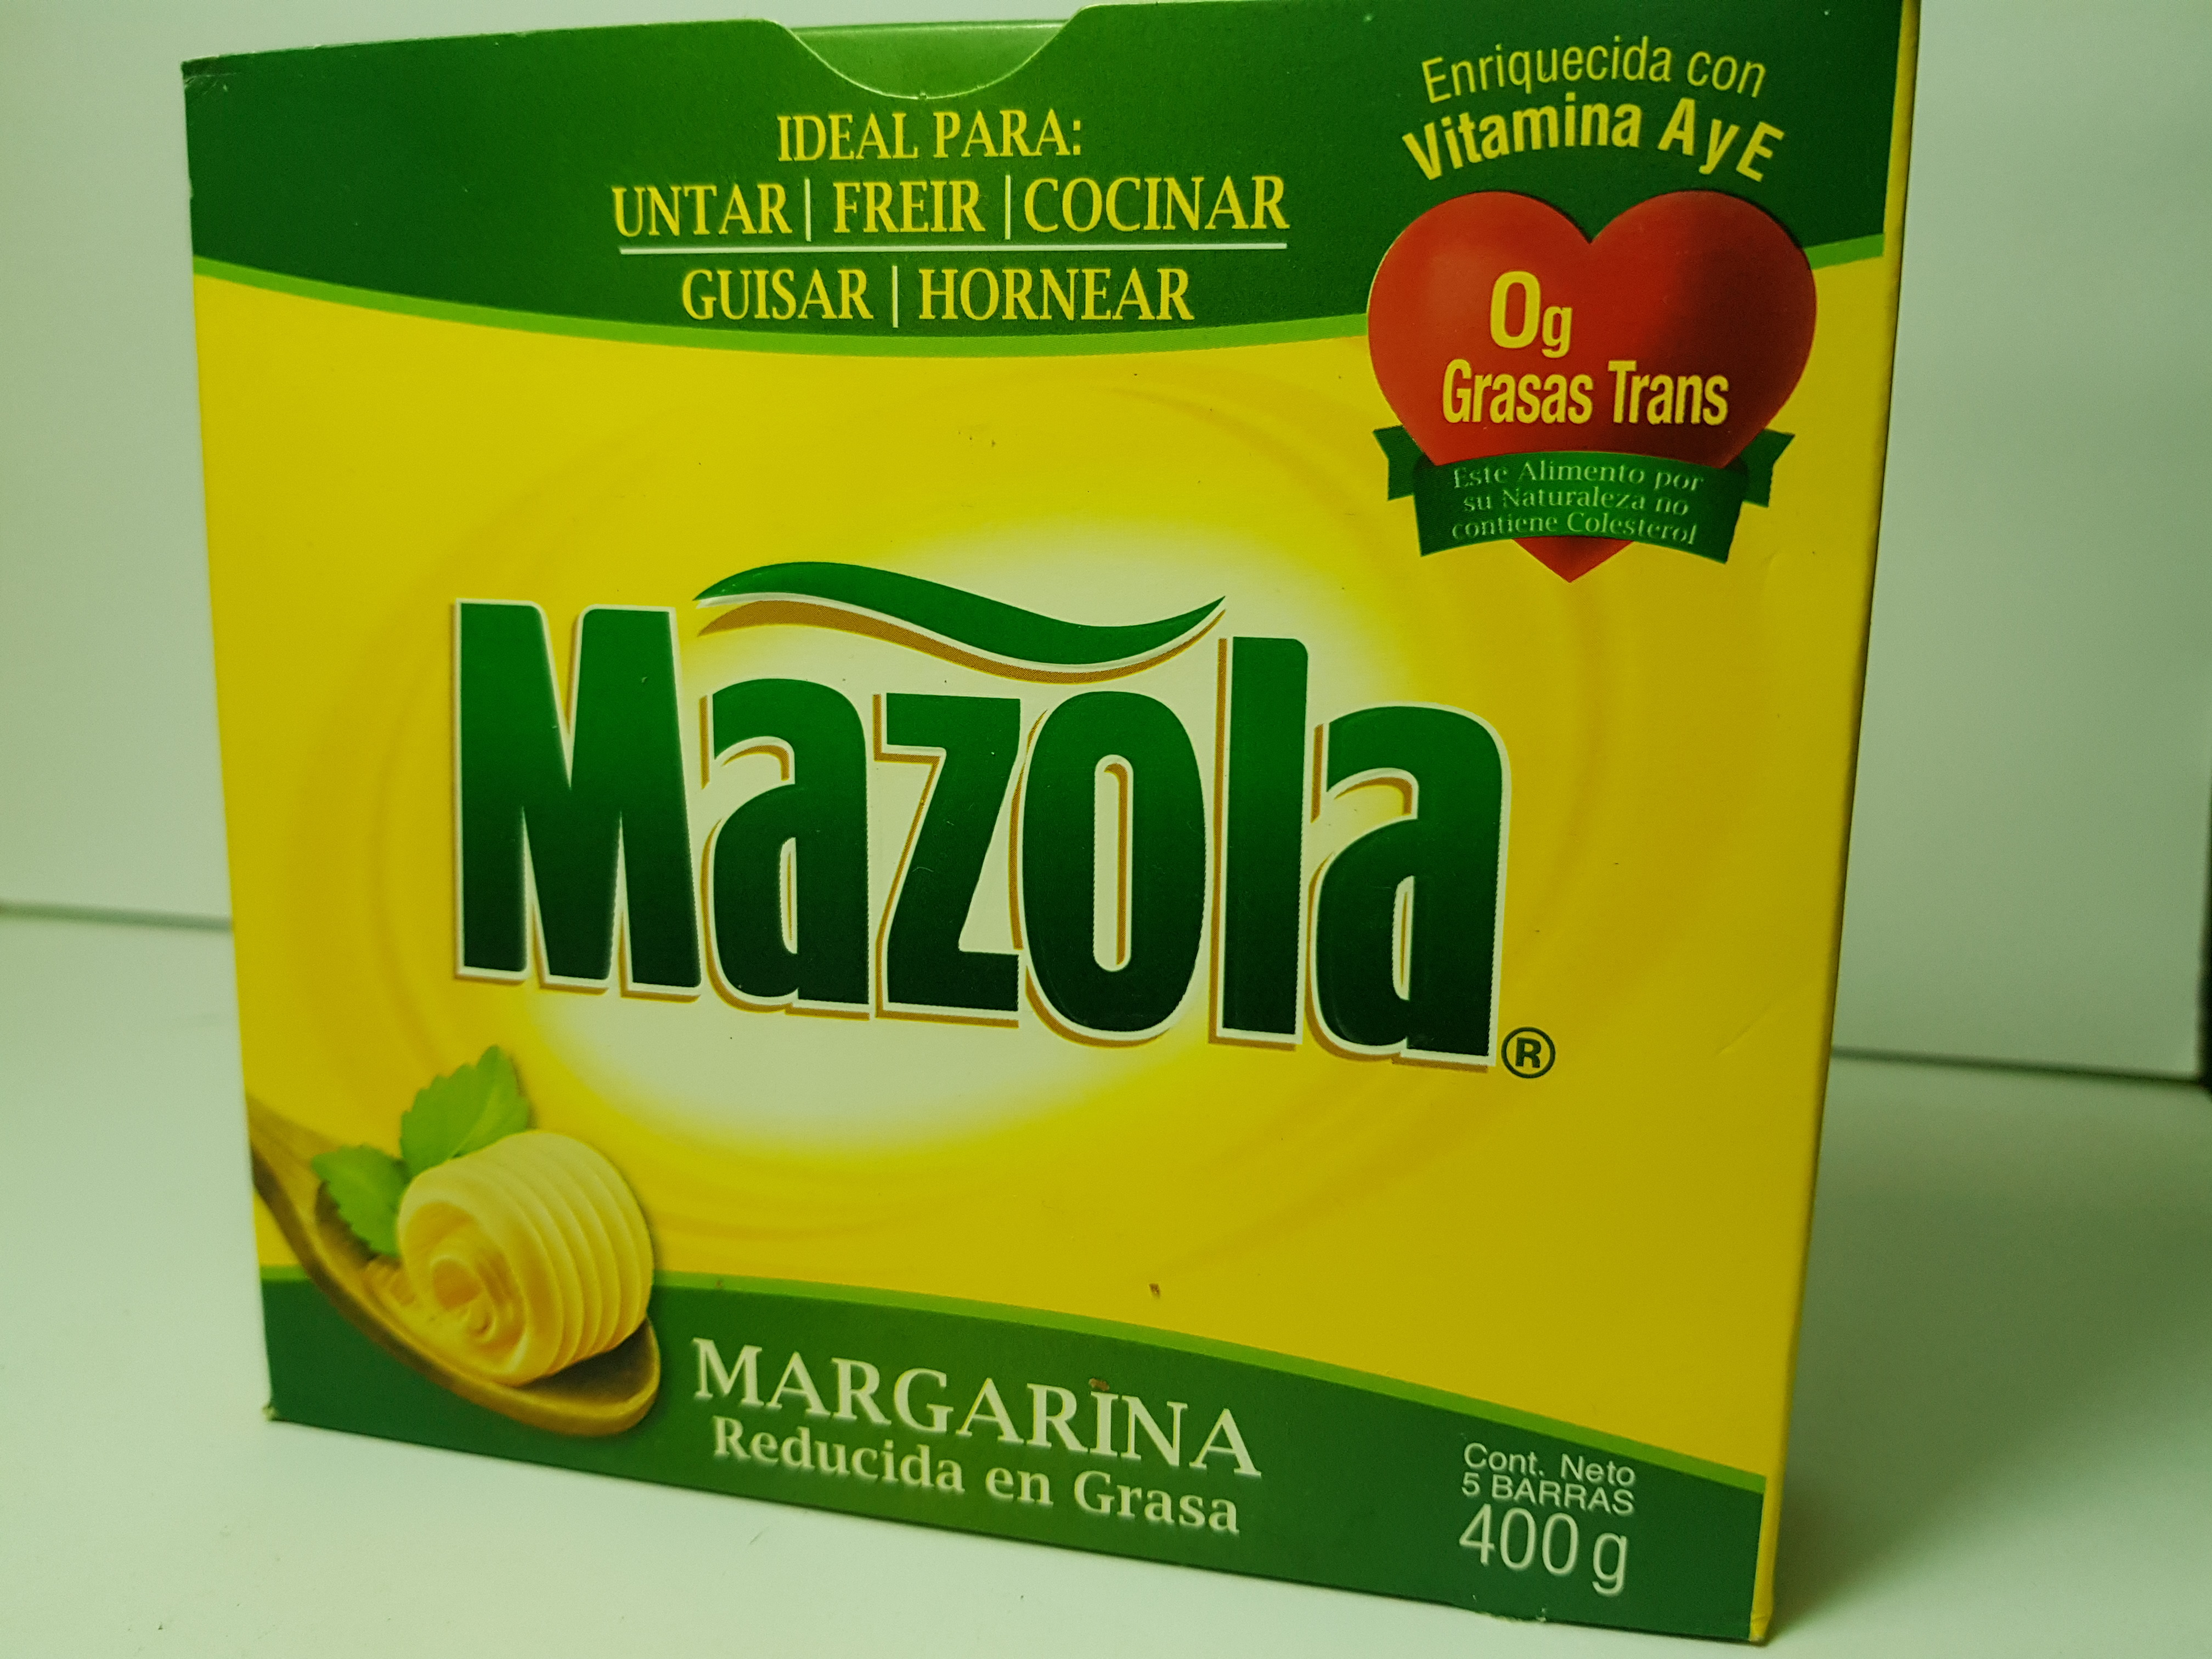mazola: (153, 3, 1966, 1659)
